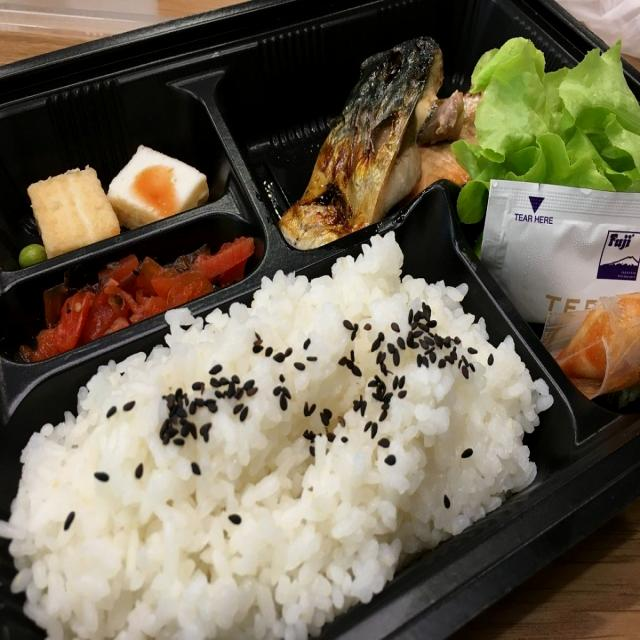rice: (70, 409, 476, 544), (235, 304, 466, 386)
